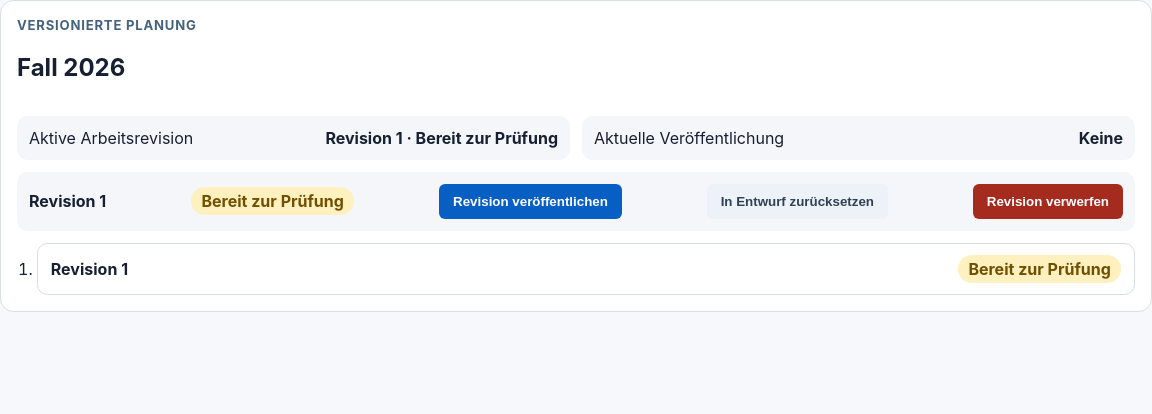
ScheduleLifecyclePanel › renders Ready and restore actions plus machine-readable Vienna history
Click the heading "Revision 1 Bereit zur Prüfung" at x=86, y=269, box [51,255,1121,283]
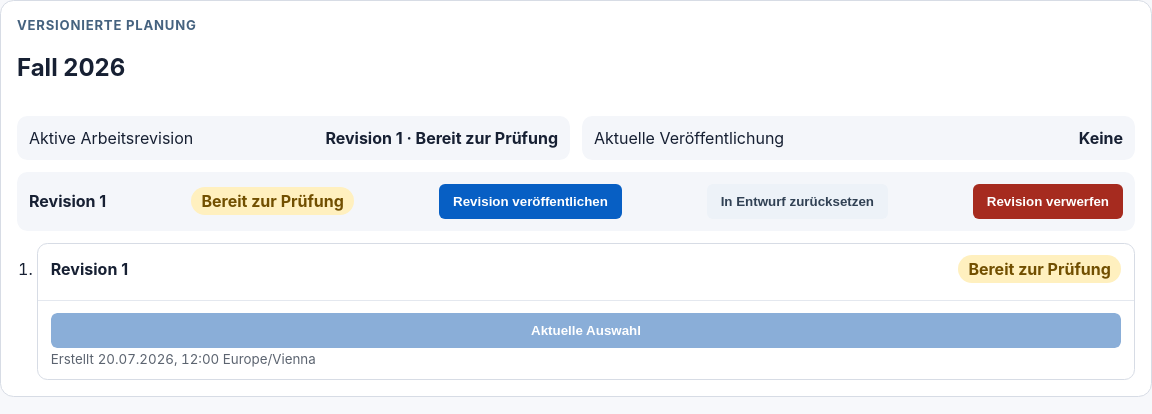
Check: the text "20.07.2026, 12:00 Europe/Vienna" is shown, box [98,351,316,367]
